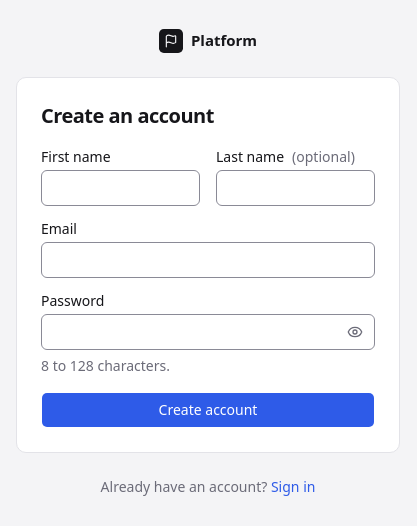
Scenario: register › puts a taken email on the email field
Type "Jane" into the field labelled "First name" at (120, 188), box [41,170,200,206]
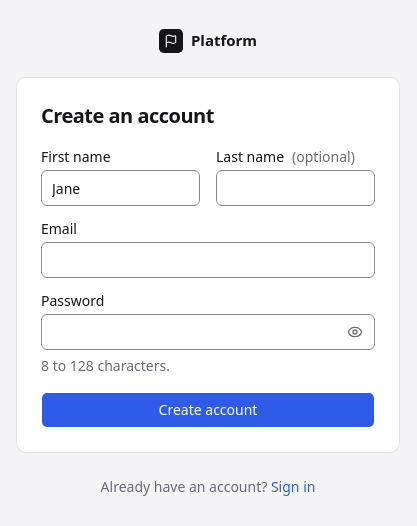
Type "jane@example.com" into the field labelled "Email" at (208, 260), box [41,242,375,278]
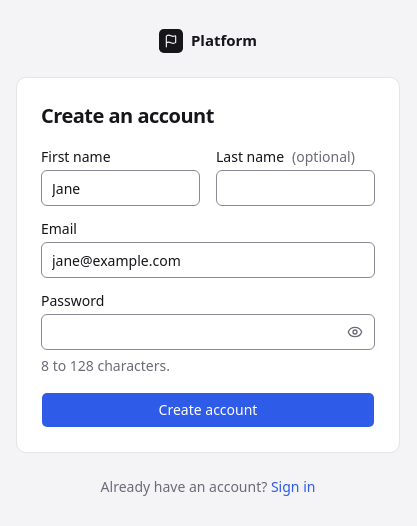
Type "correct horse" into the password field labelled "Password" at (208, 332), box [41,314,375,350]
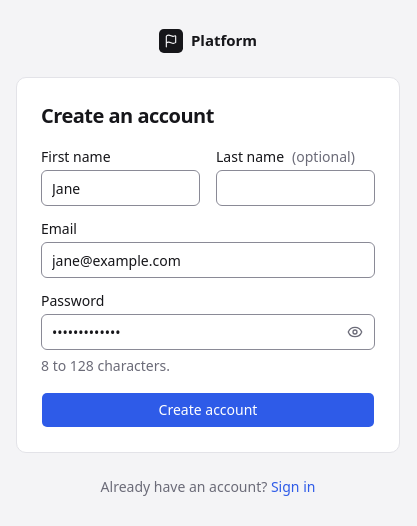
Click the button "Create account" at (208, 410), box [41,392,375,428]
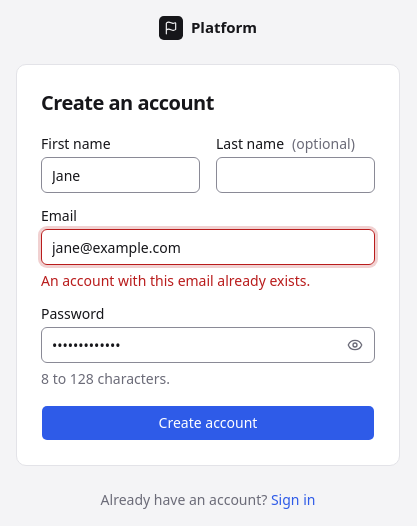
Now the text "An account with this email already exists." is shown, box [41,271,310,290]
